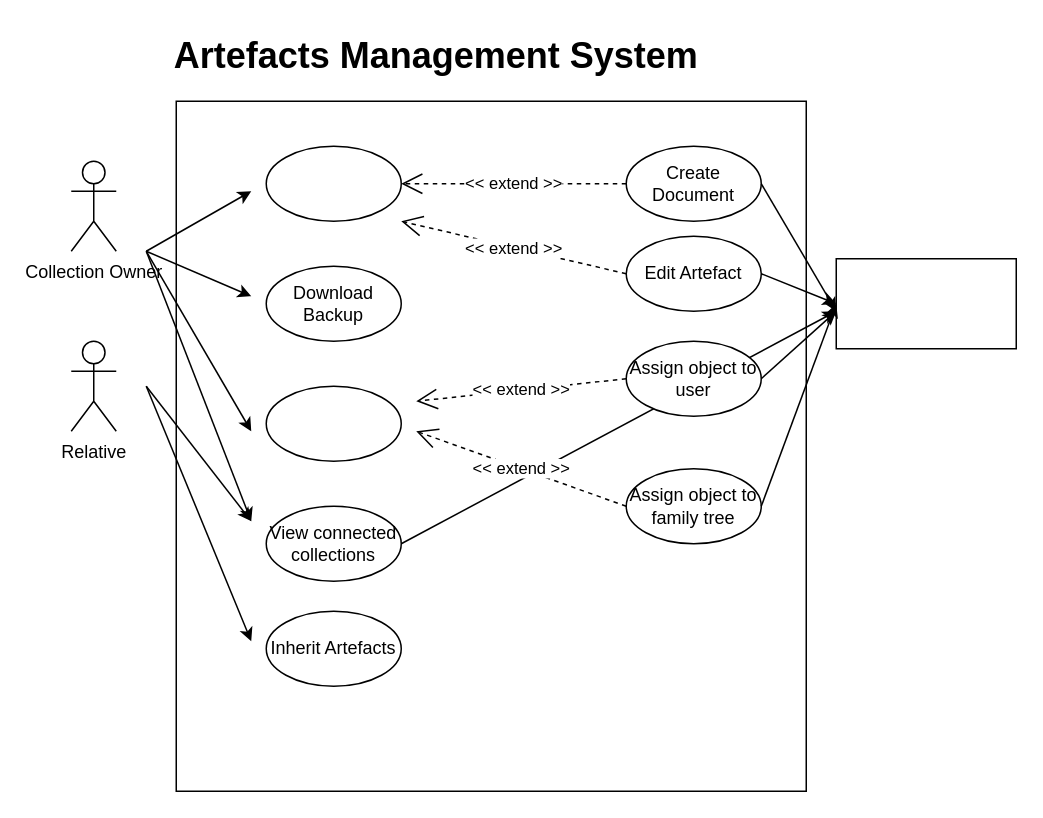
The diagram is 1043 pixels wide and 818 high, and some of its shapes have lost their labels. The centre of each missing label's shape, as x and y in pixels:
<< Service >> MondoDB Data Store: point 925,303
Create Artefact: point 333,183
Create Connections: point 333,423
